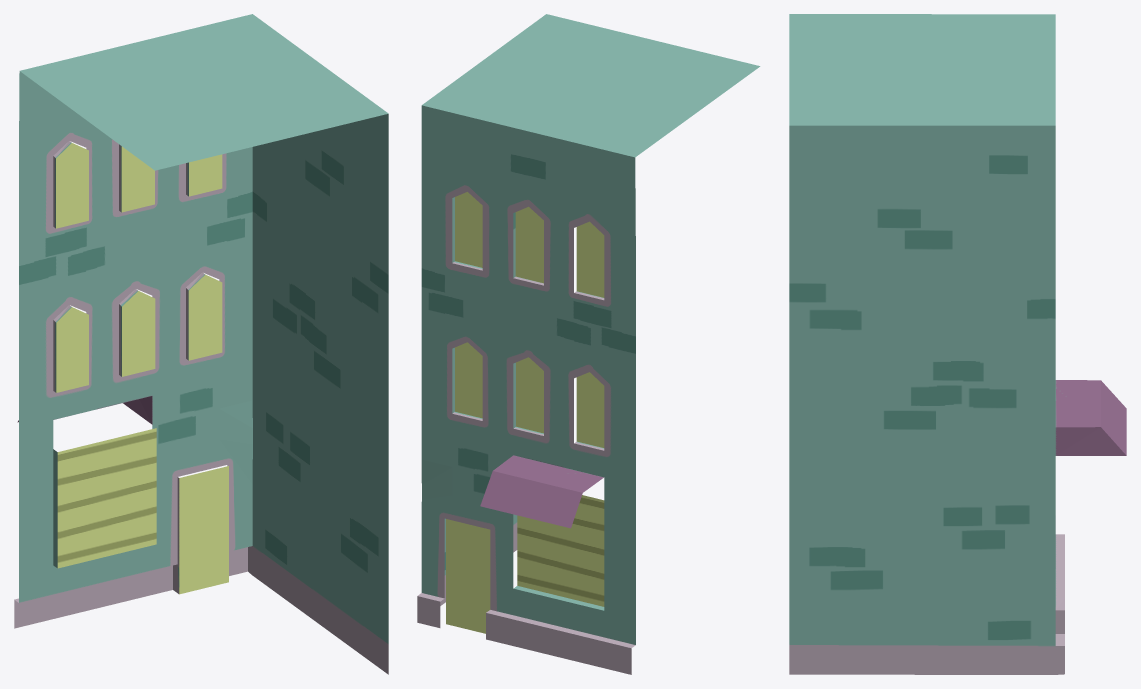
File: Building_L_1_Main.fbx
3 renders of one model, left to right at view 1: azimuth 30°, elevation 25°; view 2: azimuth 150°, elevation 25°; view 3: azimuth 270°, elevation 25°, orthographic. The views are drawn at different scales.
Parts seen in each view (by area): view 1: Building_L_1; view 2: Building_L_1; view 3: Building_L_1.
Boxes of the visible parts, x1,y1,x2,y2 form: Building_L_1: [14, 14, 388, 674]; Building_L_1: [417, 14, 760, 674]; Building_L_1: [789, 14, 1126, 674].
Size of the model in its own units: 379 by 869 by 484.
1 material, 1 textured.
